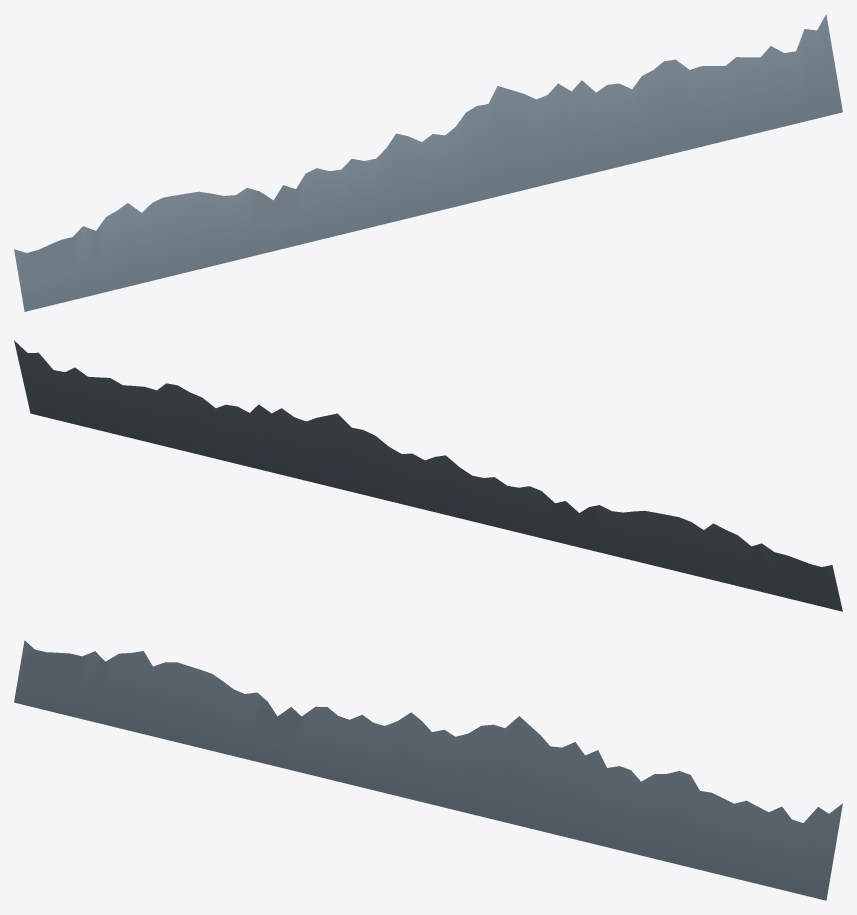
The picture shows the model from 3 angles, top to bottom: view 1: azimuth 30°, elevation 25°; view 2: azimuth 150°, elevation 25°; view 3: azimuth 330°, elevation 25°; orthographic projection.
Parts seen in each view (by area): view 1: rn_hz_b; view 2: rn_hz_b; view 3: rn_hz_b.
Boxes of the visible parts, x1,y1,x2,y2 form: rn_hz_b: (14, 14, 842, 311); rn_hz_b: (14, 340, 842, 611); rn_hz_b: (14, 640, 842, 900).
Size of the model in its own units: 420 by 45.7 by 16.
